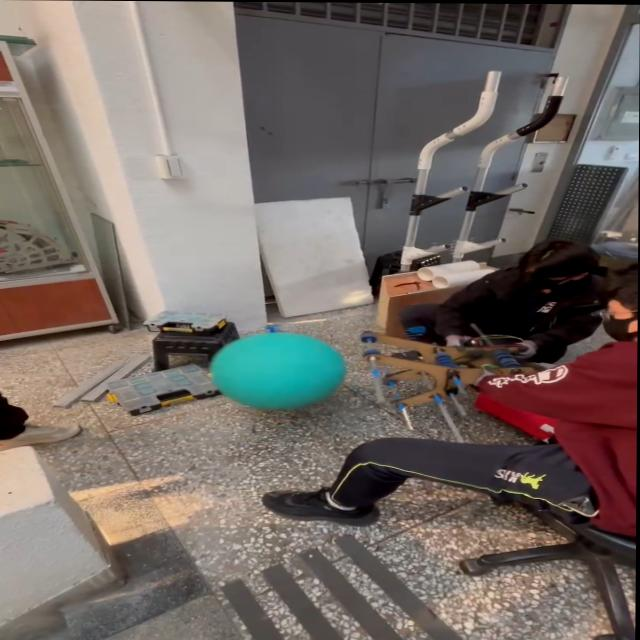ALGAE: (208, 330, 347, 412)
